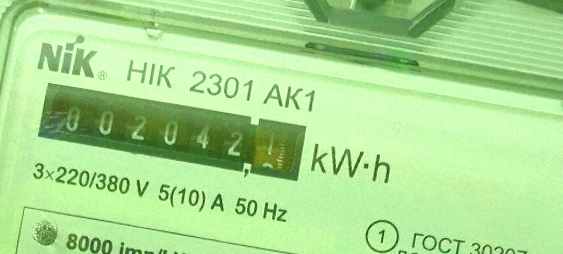0: (61, 101, 84, 134), (159, 115, 182, 148), (95, 105, 116, 139)
1: (261, 126, 279, 159)
2: (128, 111, 150, 143), (224, 126, 246, 158)
4: (192, 118, 215, 153)
screen: (31, 77, 313, 190)
